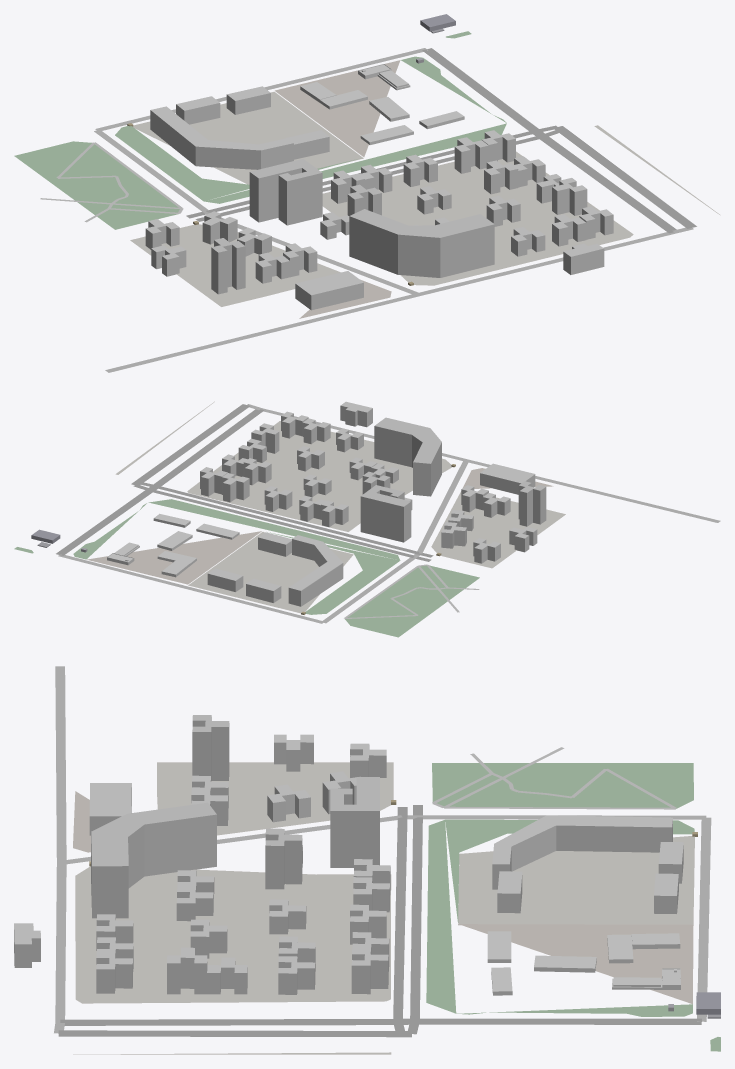
3 views of the same model, one above another, from view 1: azimuth 30°, elevation 25°; view 2: azimuth 150°, elevation 25°; view 3: azimuth 270°, elevation 25° (orthographic). The views are drawn at different scales.
Bounding box in the file's own units: 663 × 45.86 × 507.
